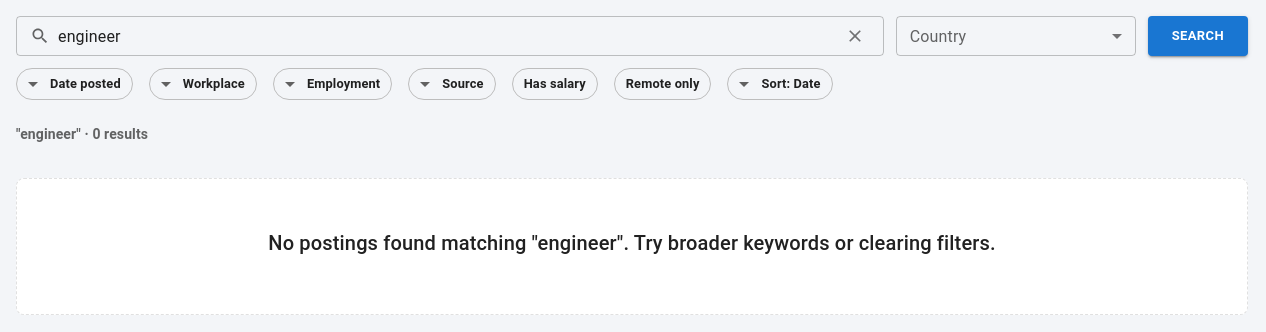
it: BF-020: search box › clearing removes the search from the URL and shows the unfiltered list
This screenshot has width=1266, height=332.
Click the button named "clear search input": (855, 36) x1=840 y1=21 x2=870 y2=51
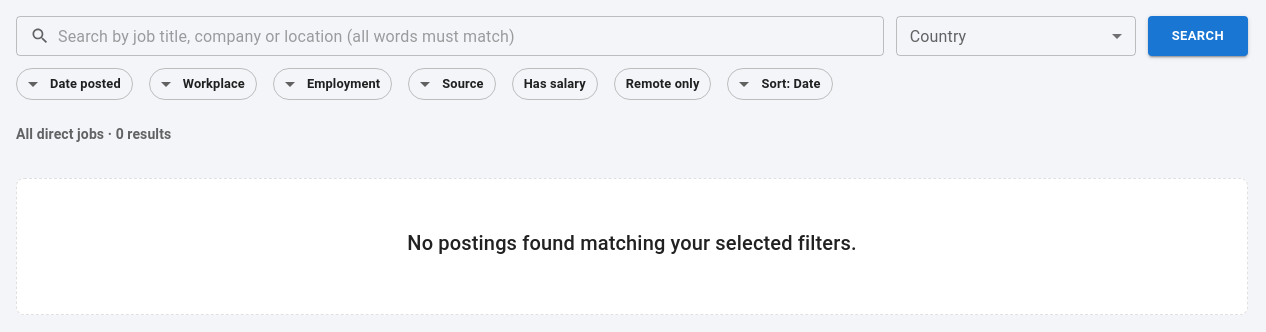
Result: the field named "search jobs" is empty at x1=58 y1=16 x2=884 y2=56
